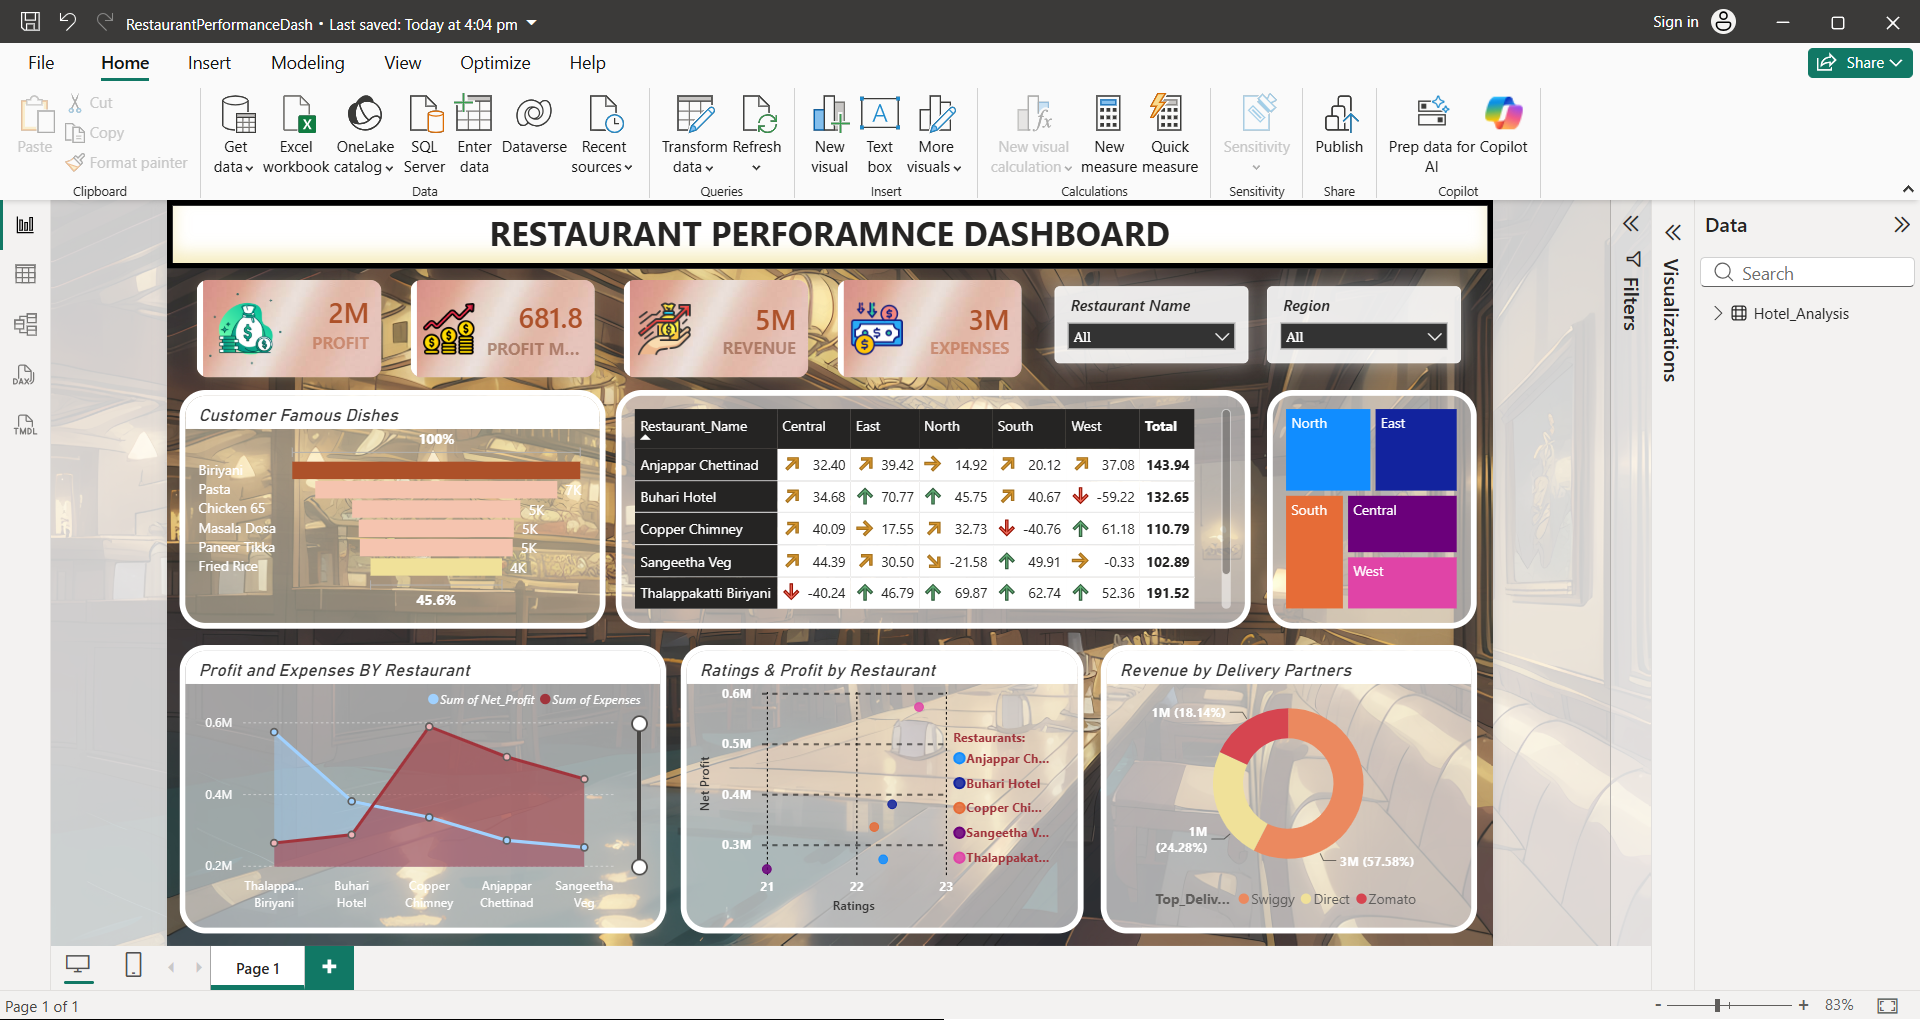

What the dashboard file says about the page in this screenshot:
{"tool":"powerbi","page":{"name":"Page 1","canvas":[1280,720],"ordinal":0},"visuals":[{"type":"areaChart","title":"Profit and Expenses BY Restaurant","fields":{"Category":["Hotel_Analysis.Restaurant_Name"],"Y":["Sum(Hotel_Analysis.Net_Profit)"],"Y2":["Sum(Hotel_Analysis.Expenses)"]},"box":[12.1,429.5,469.3,278.7],"z":0},{"type":"treemap","fields":{"Group":["Hotel_Analysis.Region"],"Values":["Sum(Hotel_Analysis.Revenue)"]},"box":[1061.7,183.4,202.7,230.4],"z":1000},{"type":"donutChart","title":"Revenue by Delivery Partners","fields":{"Category":["Hotel_Analysis.Top_Delivery_Partner"],"Y":["Sum(Hotel_Analysis.Revenue)"]},"box":[901.2,429.5,363.1,278.7],"z":2000},{"type":"slicer","fields":{"Values":["Hotel_Analysis.Restaurant_Name"]},"box":[856.6,83.2,187,74.8],"z":3000},{"type":"scatterChart","title":"Ratings & Profit by Restaurant","fields":{"X":["Sum(Hotel_Analysis.Rating)"],"Y":["Sum(Hotel_Analysis.Net_Profit)"],"Series":["Hotel_Analysis.Restaurant_Name"]},"box":[495.8,429.5,388.5,278.7],"z":4000},{"type":"funnel","title":"Customer Famous Dishes","fields":{"Category":["Hotel_Analysis.Famous_Dish"],"Y":["Sum(Hotel_Analysis.Total_Customers)"]},"box":[12.1,183.4,411.4,230.4],"z":5000},{"type":"pivotTable","fields":{"Rows":["Hotel_Analysis.Restaurant_Name"],"Columns":["Hotel_Analysis.Region"],"Values":["Sum(Hotel_Analysis.Profit_Margin_Pct)"]},"box":[433.1,183.4,612.9,230.4],"z":6000},{"type":"cardVisual","fields":{"Data":["Sum(Hotel_Analysis.Net_Profit)","Sum(Hotel_Analysis.Profit_Margin_Pct)","Sum(Hotel_Analysis.Revenue)","Sum(Hotel_Analysis.Expenses)"]},"box":[0,48.3,856.6,152],"z":7000},{"type":"slicer","fields":{"Values":["Hotel_Analysis.Region"]},"box":[1061.7,83.2,187,74.8],"z":8000},{"type":"textbox","box":[0,0,1280,66.4],"z":8001}]}

Visuals, with their boxes on the page's 1280x720 design canvas (x1, y1, x2, y2). These are canvas units, not pixel positions in the 1920x1020 screenshot, which may show the page scaled, cropped or inside an application window:
"Profit and Expenses BY Restaurant" areaChart: select_region(12, 430, 481, 708)
treemap - Hotel_Analysis.Region x Sum(Hotel_Analysis.Revenue): select_region(1062, 183, 1264, 414)
"Revenue by Delivery Partners" donutChart: select_region(901, 430, 1264, 708)
slicer - Hotel_Analysis.Restaurant_Name: select_region(857, 83, 1044, 158)
"Ratings & Profit by Restaurant" scatterChart: select_region(496, 430, 884, 708)
"Customer Famous Dishes" funnel: select_region(12, 183, 424, 414)
pivotTable - Hotel_Analysis.Restaurant_Name x Hotel_Analysis.Region: select_region(433, 183, 1046, 414)
cardVisual - Sum(Hotel_Analysis.Net_Profit) x Sum(Hotel_Analysis.Profit_Margin_Pct): select_region(0, 48, 857, 200)
slicer - Hotel_Analysis.Region: select_region(1062, 83, 1249, 158)
textbox: select_region(0, 0, 1280, 66)
